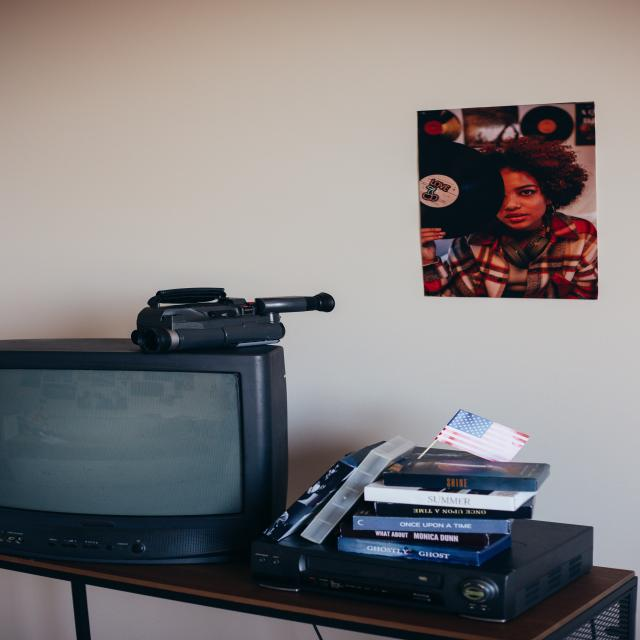television: (10, 334, 308, 588)
